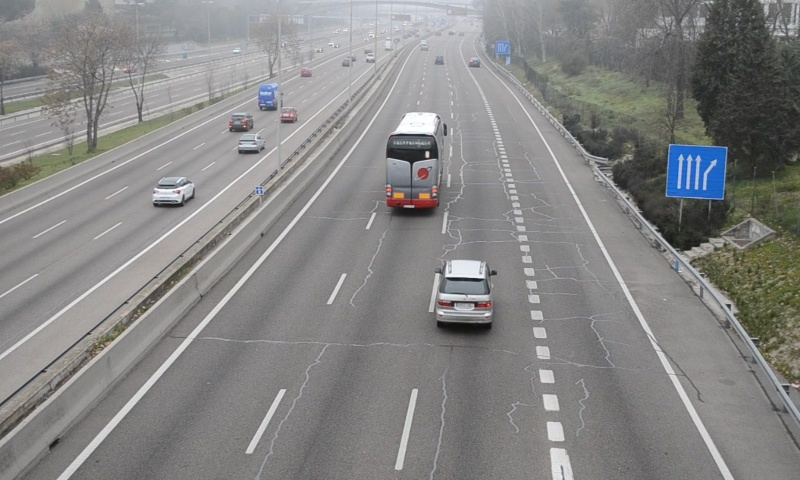bus: (384, 112, 444, 211)
car: (435, 259, 494, 326)
